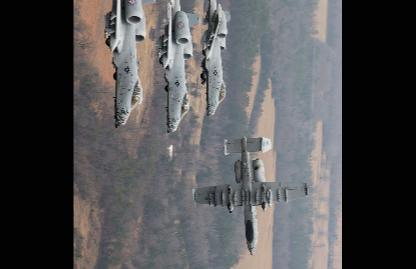A10: (192, 135, 309, 254), (104, 0, 156, 127), (158, 0, 201, 133), (200, 0, 233, 116)
